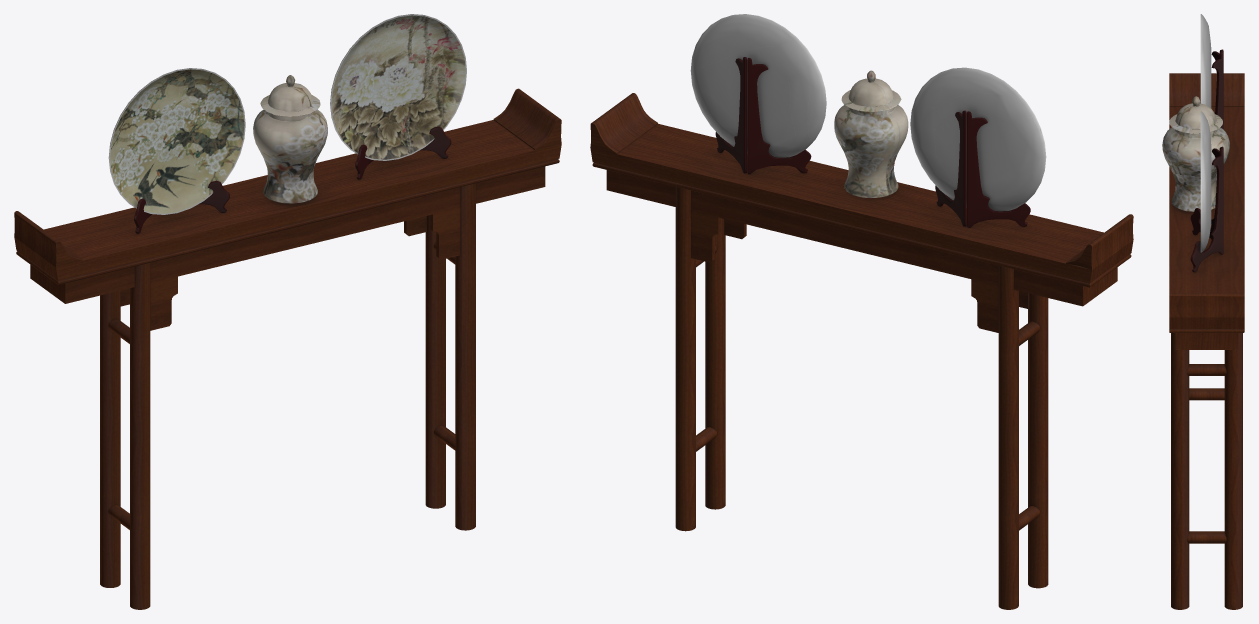
The model's file is raw_model.obj.
The picture shows the model from 3 angles, left to right: view 1: azimuth 30°, elevation 25°; view 2: azimuth 150°, elevation 25°; view 3: azimuth 270°, elevation 25°; orthographic projection. The views are drawn at different scales.
Visible parts, largest first — view 1: solid_002, solid_005, solid_003, solid_001, solid_004, solid_006; view 2: solid_002, solid_006, solid_004, solid_001; view 3: solid_002, solid_001, solid_006, solid_004.
Part boxes in pixels (<box>): solid_002: <box>14,88,561,609</box>; solid_005: <box>110,69,244,213</box>; solid_003: <box>331,15,465,159</box>; solid_001: <box>253,75,327,203</box>; solid_004: <box>134,127,451,233</box>; solid_006: <box>108,14,466,214</box>; solid_002: <box>590,93,1133,609</box>; solid_006: <box>690,14,1046,211</box>; solid_004: <box>715,57,1030,227</box>; solid_001: <box>834,70,908,197</box>; solid_002: <box>1169,73,1244,609</box>; solid_001: <box>1162,96,1229,211</box>; solid_006: <box>1200,14,1211,252</box>; solid_004: <box>1190,49,1223,272</box>.
Bounding box in the file's own units: 1.13 × 1.1 × 0.1759.
Materials: 1 (1 with a texture image).
